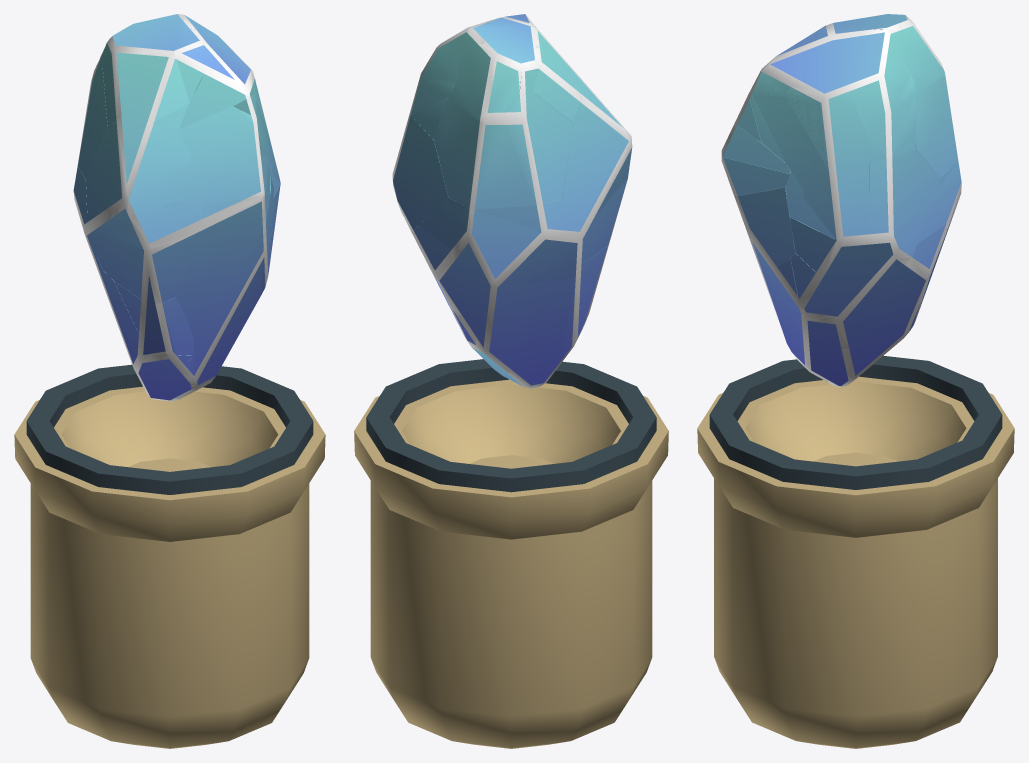
Rendered from Crystal_Blue.fbx.
3 views of the same model, side by side, from view 1: azimuth 30°, elevation 25°; view 2: azimuth 150°, elevation 25°; view 3: azimuth 270°, elevation 25° (orthographic).
Visible parts, largest first — view 1: Crystal_Blue, Crystal, Crystal_cell.009, Crystal_cell.002, Crystal_cell.046, Crystal_cell.030, Crystal_cell.004, Crystal_cell.033, Crystal_cell.047, Crystal_cell.041, Crystal_cell.019, Crystal_cell.031 (+4 smaller); view 2: Crystal_Blue, Crystal, Crystal_cell.032, Crystal_cell.009, Crystal_cell.001, Crystal_cell.033, Crystal_cell.018, Crystal_cell.038, Crystal_cell.041, Crystal_cell.045, Crystal_cell.002, Crystal_cell.047 (+2 smaller); view 3: Crystal_Blue, Crystal, Crystal_cell.018, Crystal_cell.038, Crystal_cell.008, Crystal_cell.015, Crystal_cell.010, Crystal_cell.032, Crystal_cell.021, Crystal_cell.031, Crystal_cell.028, Crystal_cell.045 (+8 smaller).
Part boxes in pixels (x1,y1,x2,y2): Crystal_Blue: [14, 364, 325, 748]; Crystal: [73, 14, 280, 401]; Crystal_cell.009: [86, 116, 192, 219]; Crystal_cell.002: [89, 229, 192, 303]; Crystal_cell.046: [127, 48, 189, 129]; Crystal_cell.030: [114, 281, 193, 355]; Crystal_cell.004: [179, 74, 249, 128]; Crystal_cell.033: [78, 57, 107, 179]; Crystal_cell.047: [101, 270, 155, 382]; Crystal_cell.041: [102, 45, 141, 128]; Crystal_cell.019: [87, 200, 206, 249]; Crystal_cell.031: [194, 155, 268, 200]; Crystal_Blue: [354, 359, 668, 748]; Crystal: [392, 14, 632, 388]; Crystal_cell.032: [439, 122, 536, 209]; Crystal_cell.009: [561, 77, 632, 221]; Crystal_cell.001: [447, 197, 585, 322]; Crystal_cell.033: [504, 91, 573, 204]; Crystal_cell.018: [393, 112, 448, 232]; Crystal_cell.038: [410, 42, 455, 139]; Crystal_cell.041: [533, 45, 581, 122]; Crystal_cell.045: [434, 89, 485, 160]; Crystal_cell.002: [584, 179, 627, 260]; Crystal_cell.047: [562, 259, 593, 358]; Crystal_Blue: [697, 355, 1014, 748]; Crystal: [721, 14, 961, 387]; Crystal_cell.018: [869, 149, 939, 265]; Crystal_cell.038: [843, 55, 915, 159]; Crystal_cell.008: [787, 71, 877, 173]; Crystal_cell.015: [785, 164, 868, 239]; Crystal_cell.010: [734, 187, 795, 269]; Crystal_cell.032: [924, 74, 958, 177]; Crystal_cell.021: [721, 157, 790, 195]; Crystal_cell.031: [721, 122, 790, 173]; Crystal_cell.028: [790, 217, 841, 277]; Crystal_cell.045: [915, 71, 945, 158].
Size of the model in its own units: 299 by 742 by 299.
